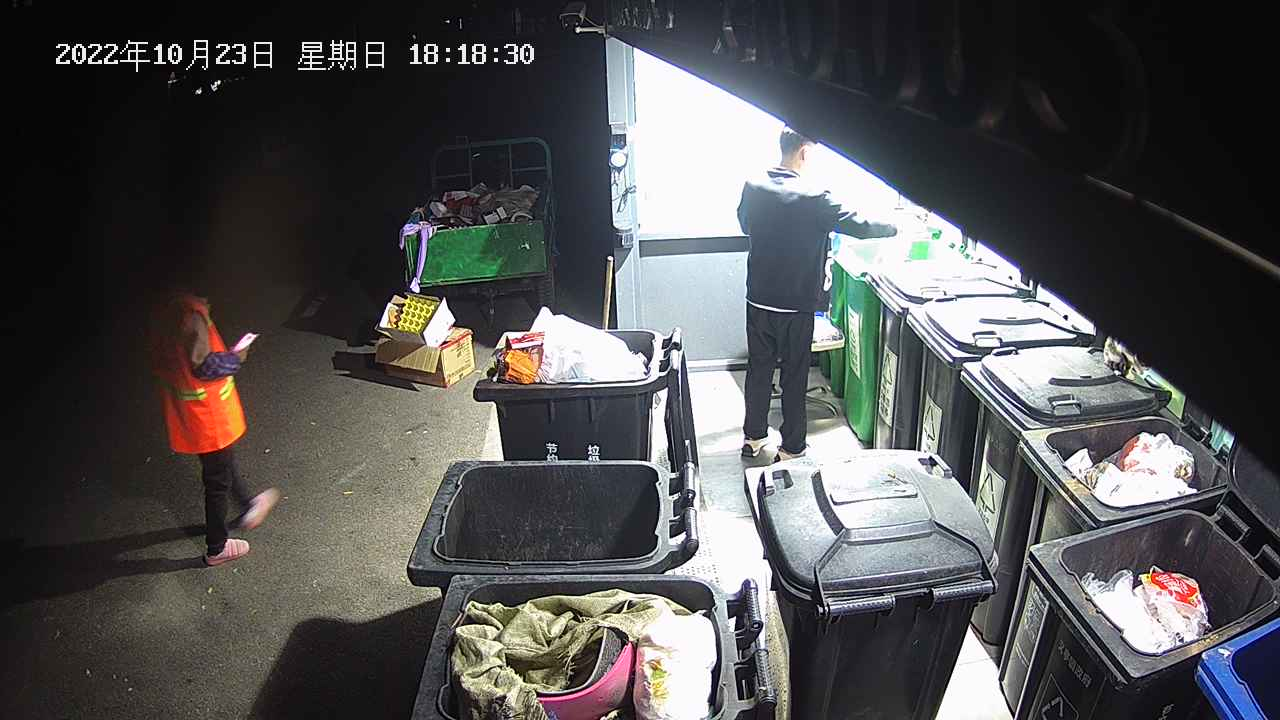person: (735, 124, 915, 463)
worker: (144, 256, 281, 569)
